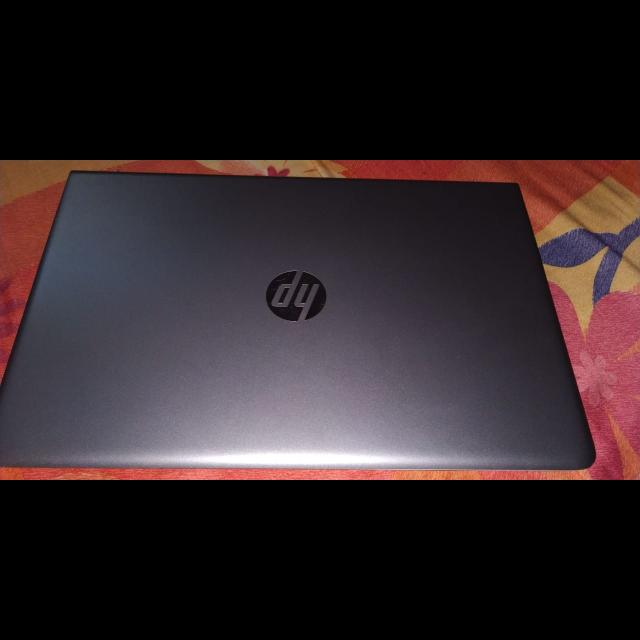Laptop: (1, 167, 603, 476)
